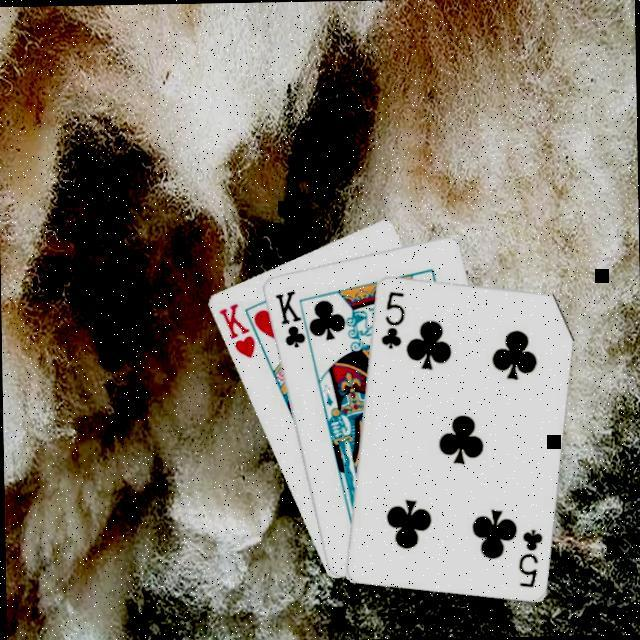5C: (514, 525, 547, 591), (377, 287, 408, 352)
KC: (272, 287, 315, 354)
KH: (215, 300, 258, 363)
